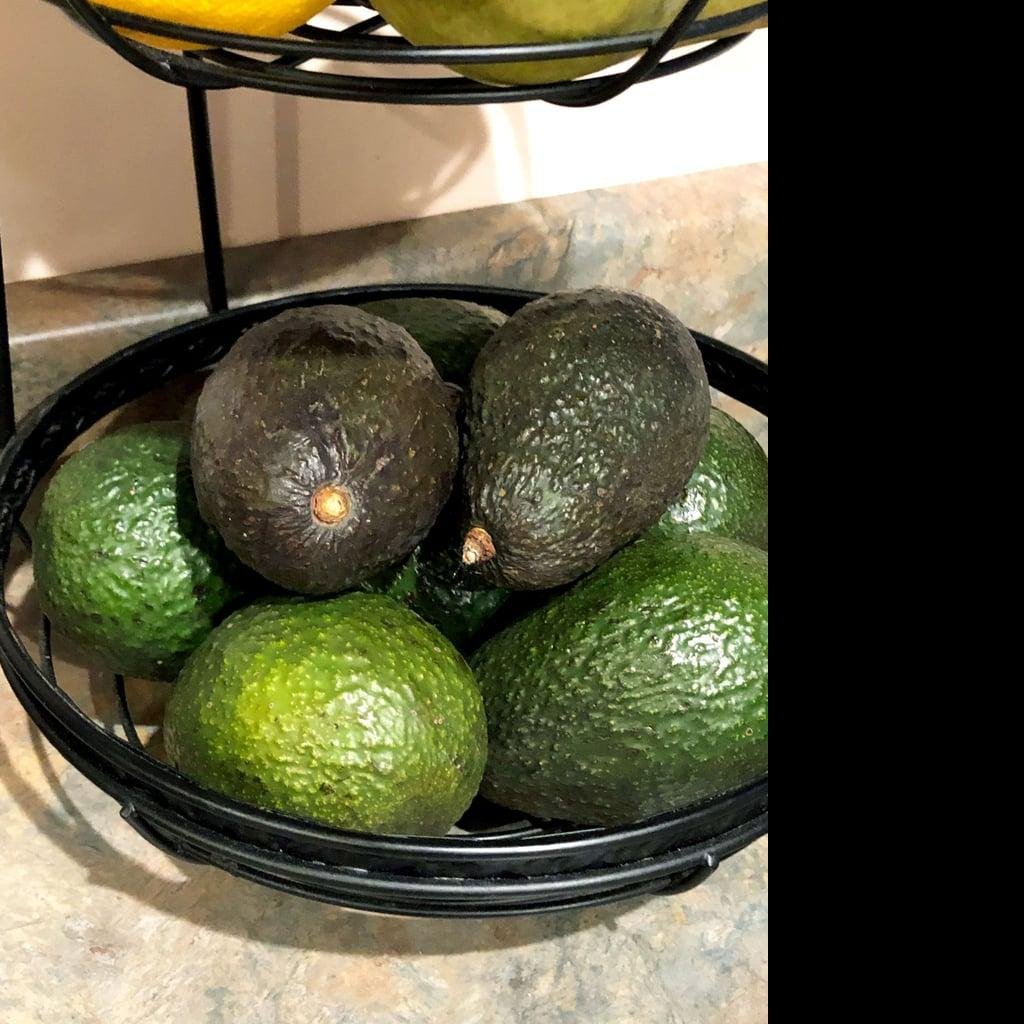ripe: (191, 303, 456, 595), (456, 287, 711, 589)
unripe: (468, 532, 767, 821), (163, 591, 489, 835), (33, 420, 285, 681)
